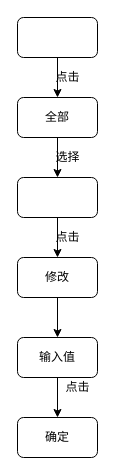
Some shapes in this 115 by 475 pixel diagram are drawn without their labels. The centre of each missing label's shape, as x and y in pixels:
用户: point (57, 37)
省份: point (57, 197)
